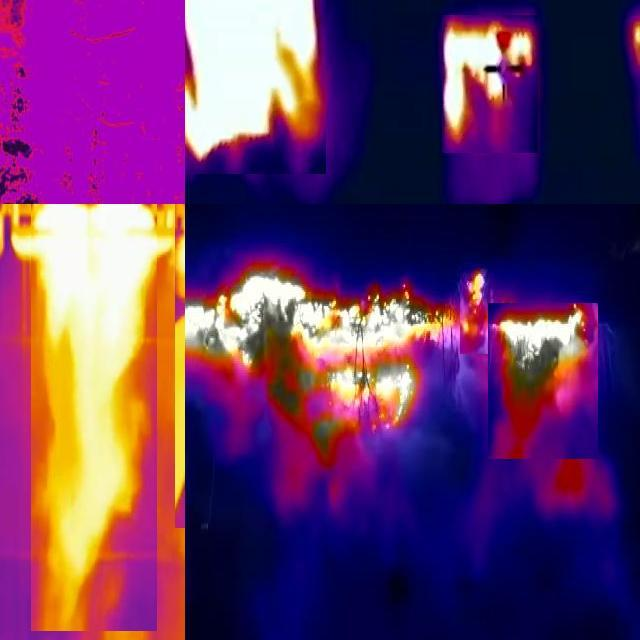fire: (186, 269, 456, 433), (185, 1, 316, 160), (32, 205, 159, 350), (489, 304, 599, 460), (443, 16, 539, 154), (461, 265, 489, 355), (627, 6, 640, 90)
